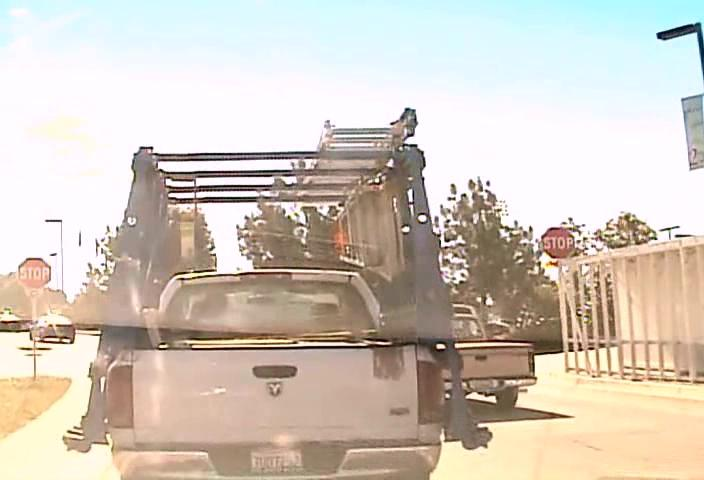stop: (540, 226, 576, 259)
